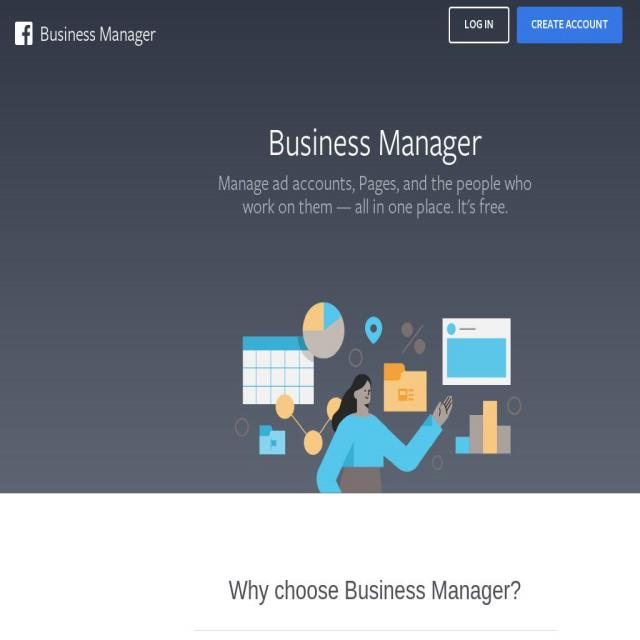login-option: (449, 7, 511, 50)
sign-up-option: (518, 5, 618, 48)
